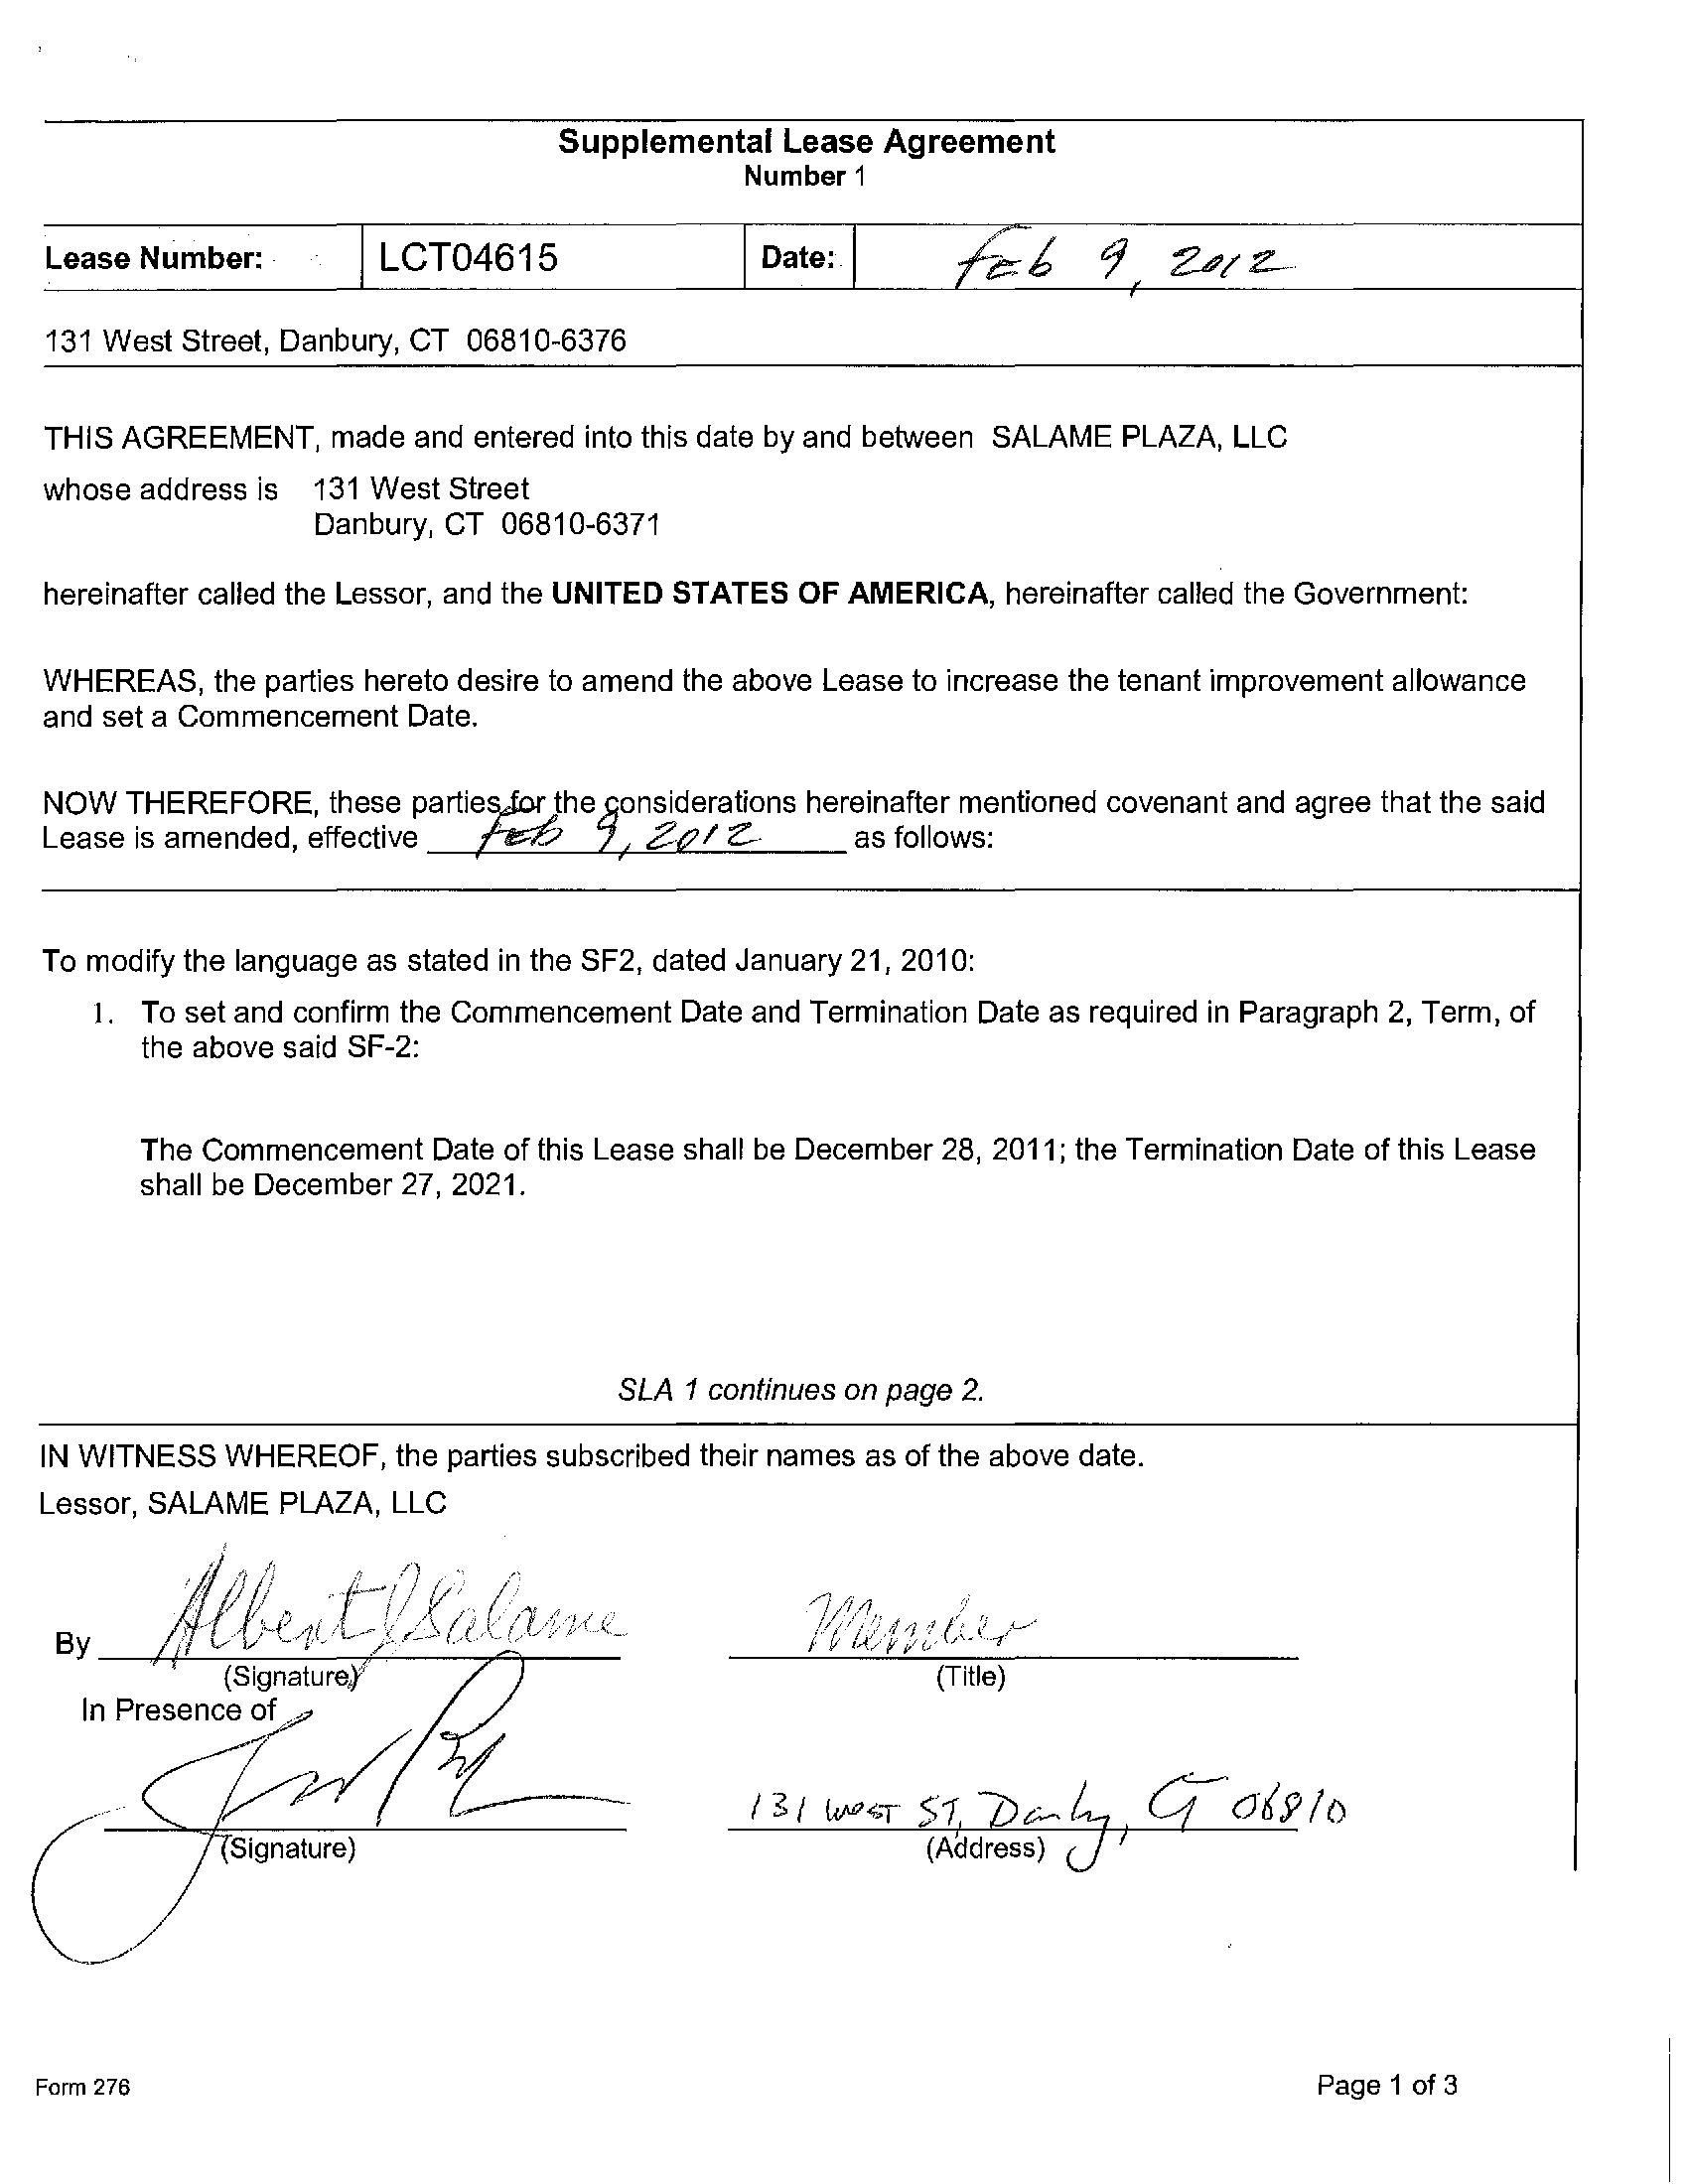handwritten: (43, 1720, 660, 1826), (126, 1521, 645, 1645), (711, 1739, 1383, 1833), (27, 1723, 206, 2024), (395, 1666, 647, 1851), (461, 807, 796, 867), (782, 1587, 1067, 1656)
